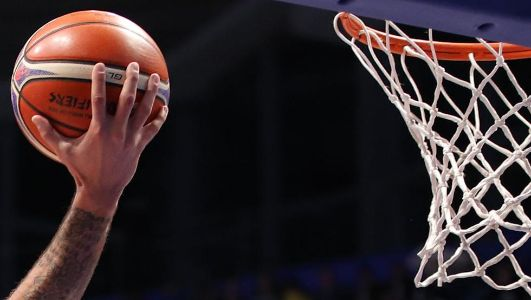baloncesto: (11, 10, 172, 164)
